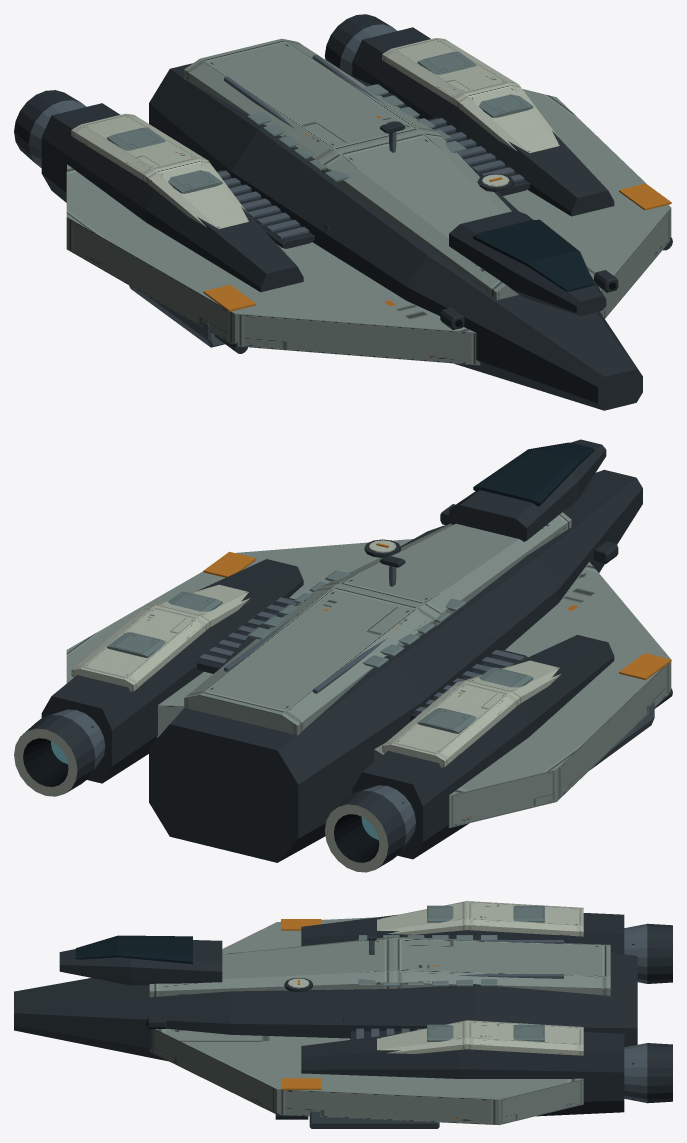
File: fighter-high.glb
The picture shows the model from 3 angles, top to bottom: view 1: azimuth 30°, elevation 25°; view 2: azimuth 150°, elevation 25°; view 3: azimuth 270°, elevation 25°; orthographic projection. The views are drawn at different scales.
Parts seen in each view (by area): view 1: AV_fighter-high; view 2: AV_fighter-high; view 3: AV_fighter-high.
Part boxes in pixels (x1=…): AV_fighter-high: x1=14, y1=14, x2=672, y2=410; AV_fighter-high: x1=14, y1=439, x2=672, y2=872; AV_fighter-high: x1=14, y1=901, x2=672, y2=1128.
Bounding box in the file's own units: 1.19 × 0.401 × 1.76.
Materials: 1 (1 with a texture image).
